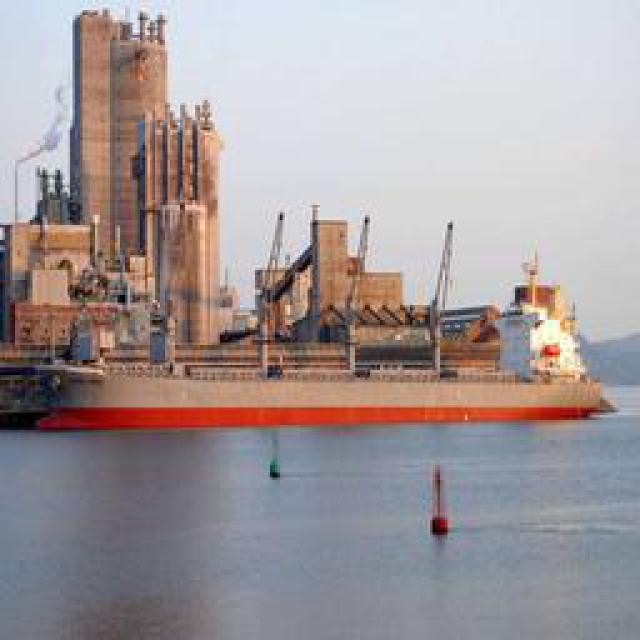Ship: (26, 210, 609, 423)
